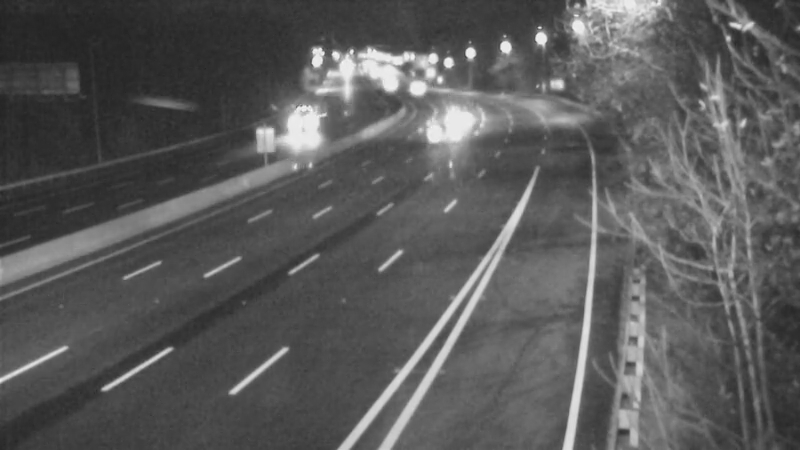vehicle: (387, 61, 437, 111), (433, 95, 483, 145), (407, 109, 457, 159), (279, 102, 329, 152)
